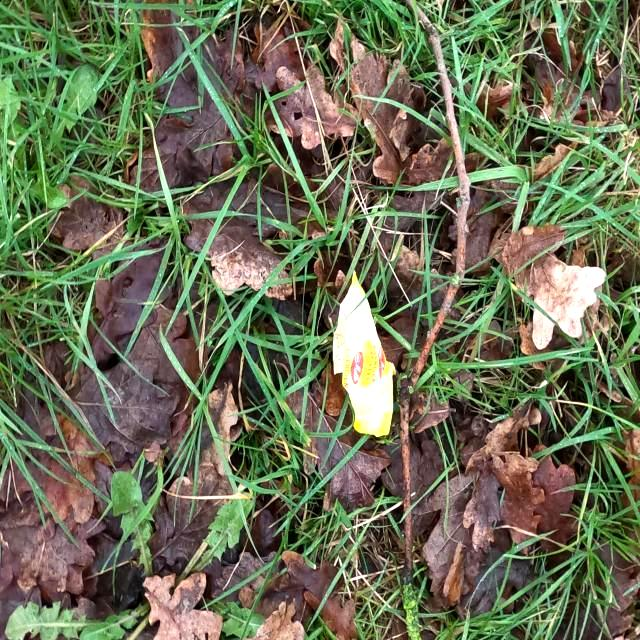Plastic: (330, 267, 398, 439)
